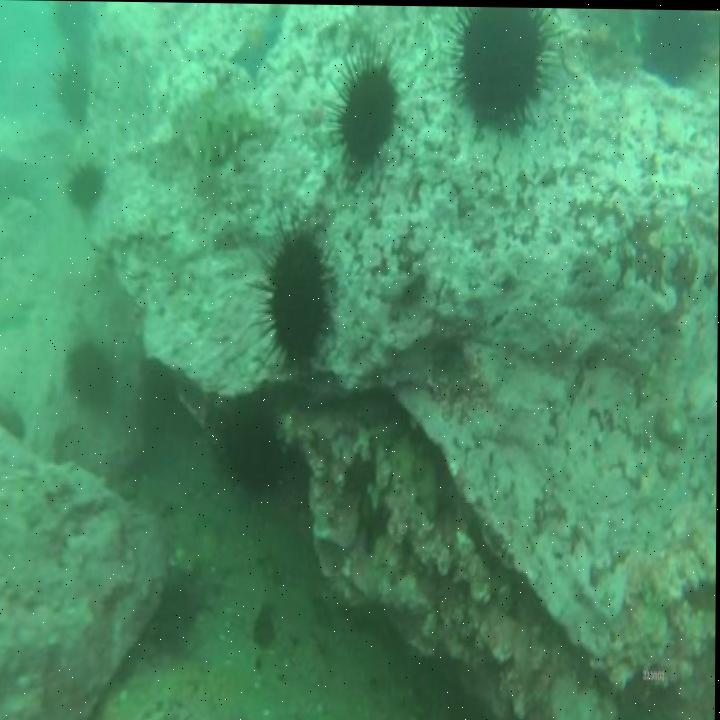echinus: (453, 5, 548, 136), (260, 222, 336, 366), (336, 50, 400, 181), (215, 395, 287, 503), (641, 8, 708, 92), (67, 339, 118, 414), (139, 356, 181, 443), (52, 56, 94, 133), (63, 155, 109, 222), (54, 1, 92, 53)
holothurian: (201, 100, 271, 177)
starfish: (227, 10, 284, 81)
